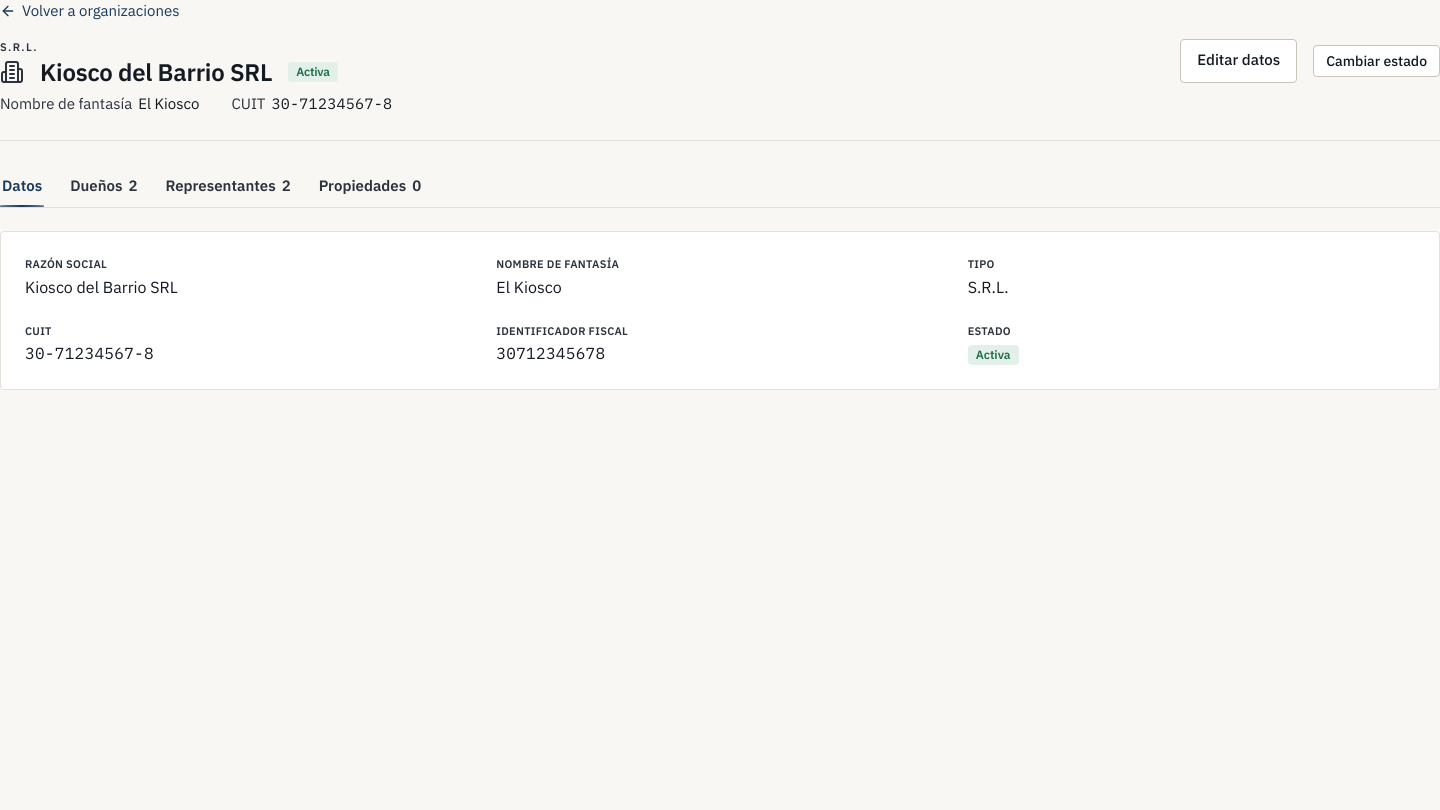
dueños › si la baja entró pero el traspaso falló, lo dice
The width and height of the screenshot is (1440, 810).
Click the tab "Dueños2" at (104, 186), box top-left (68, 164), bottom-right (139, 207)
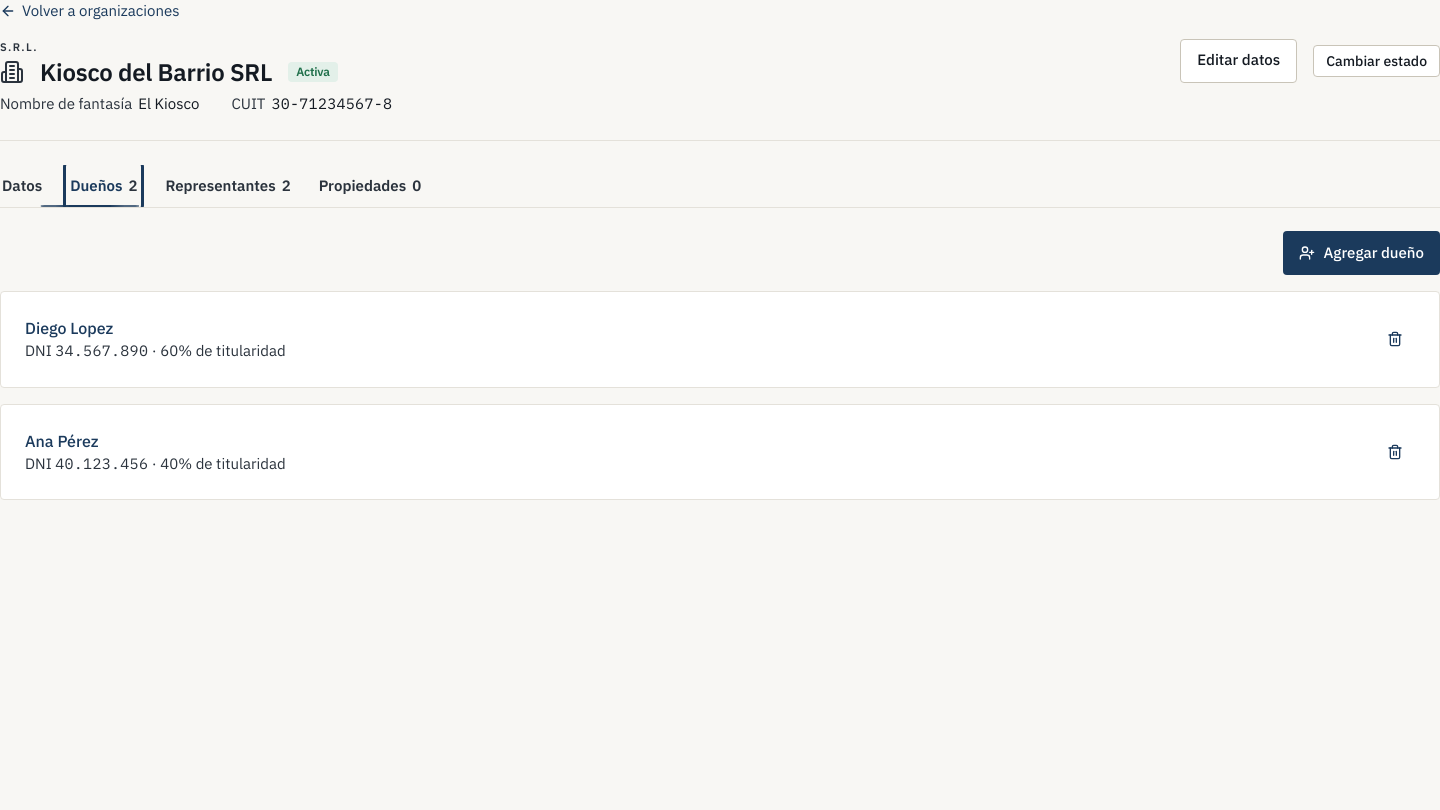
Click the button named "quitar a ana" at (1395, 452), box top-left (1375, 436), bottom-right (1415, 468)
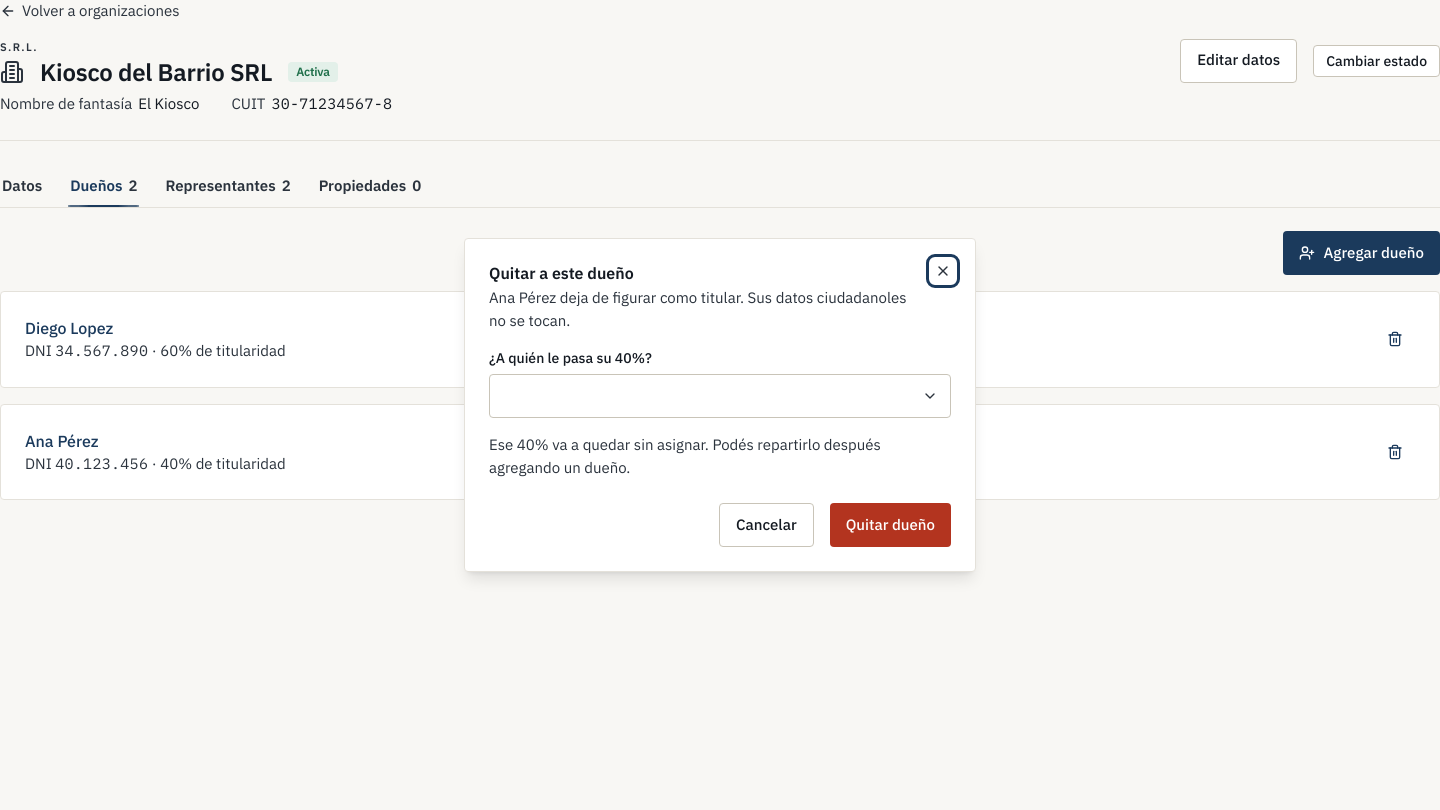
Now the text "¿A quién le pasa su 40%?" is shown, box top-left (489, 349), bottom-right (652, 367)
Press the mouse on the dropdown named "a quién le pasa su 40%" at (930, 396), box top-left (489, 374), bottom-right (951, 418)
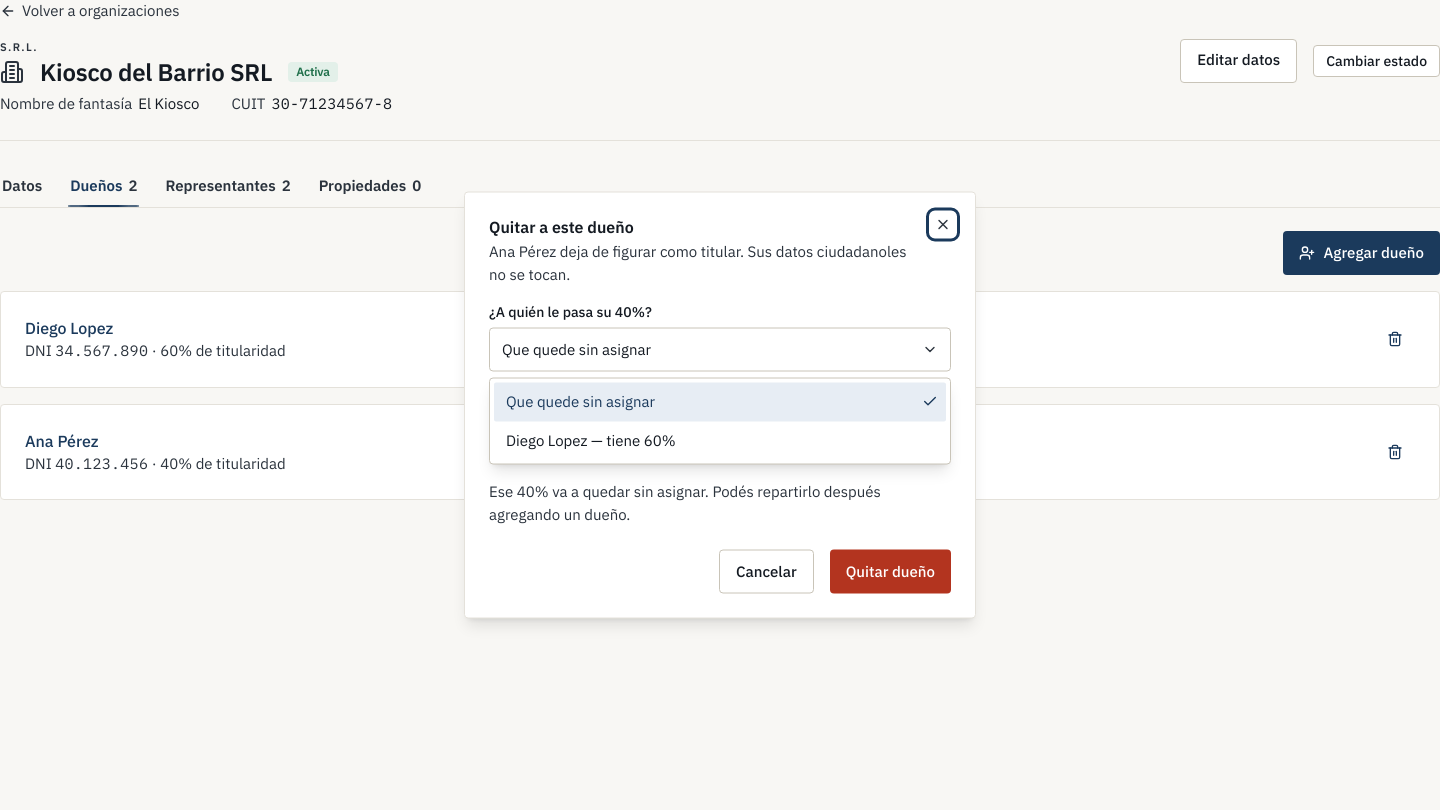
Click the option "Diego Lopez — tiene 60%" at (591, 440), box top-left (506, 430), bottom-right (676, 449)
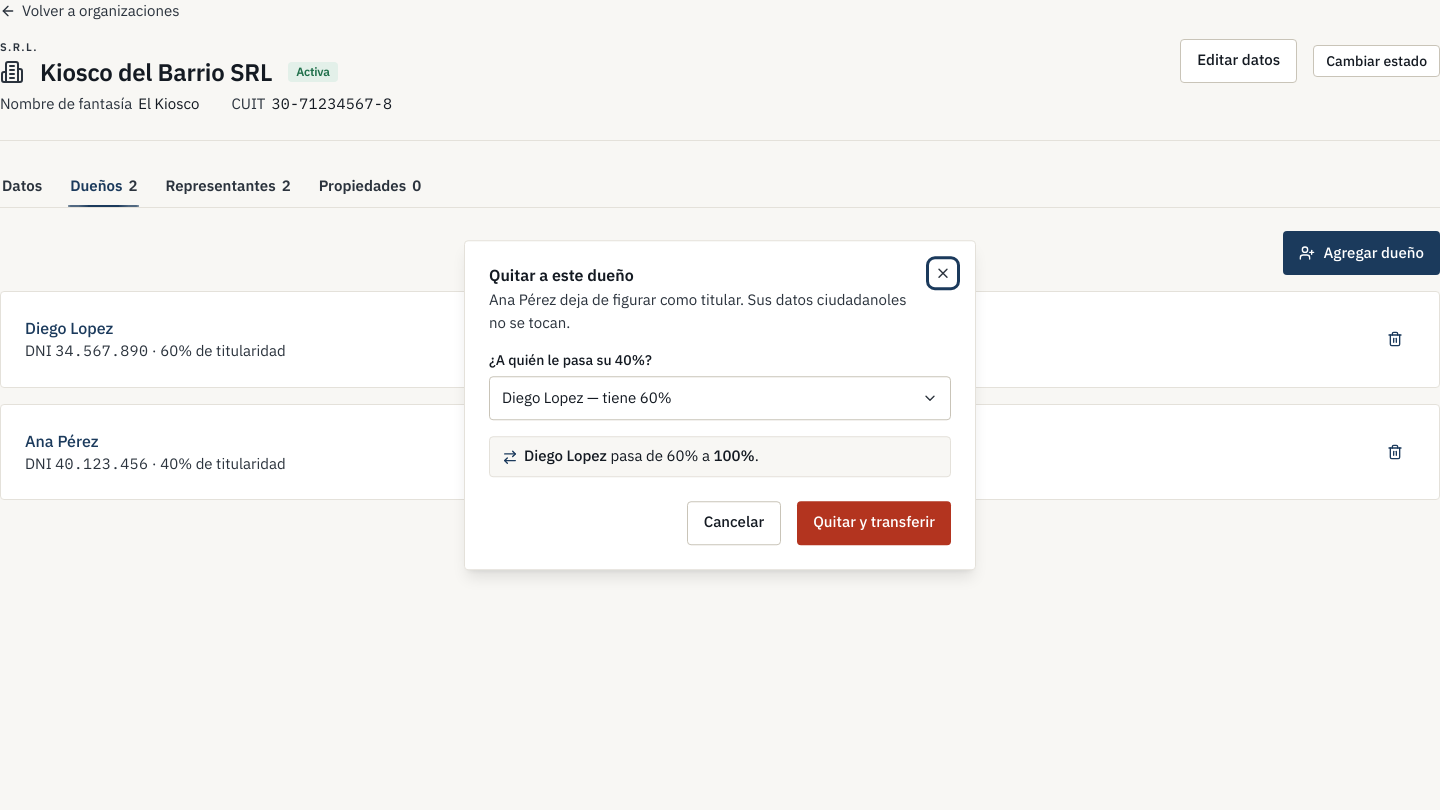
Click the button "Quitar y transferir" at (874, 523), box top-left (797, 501), bottom-right (951, 545)
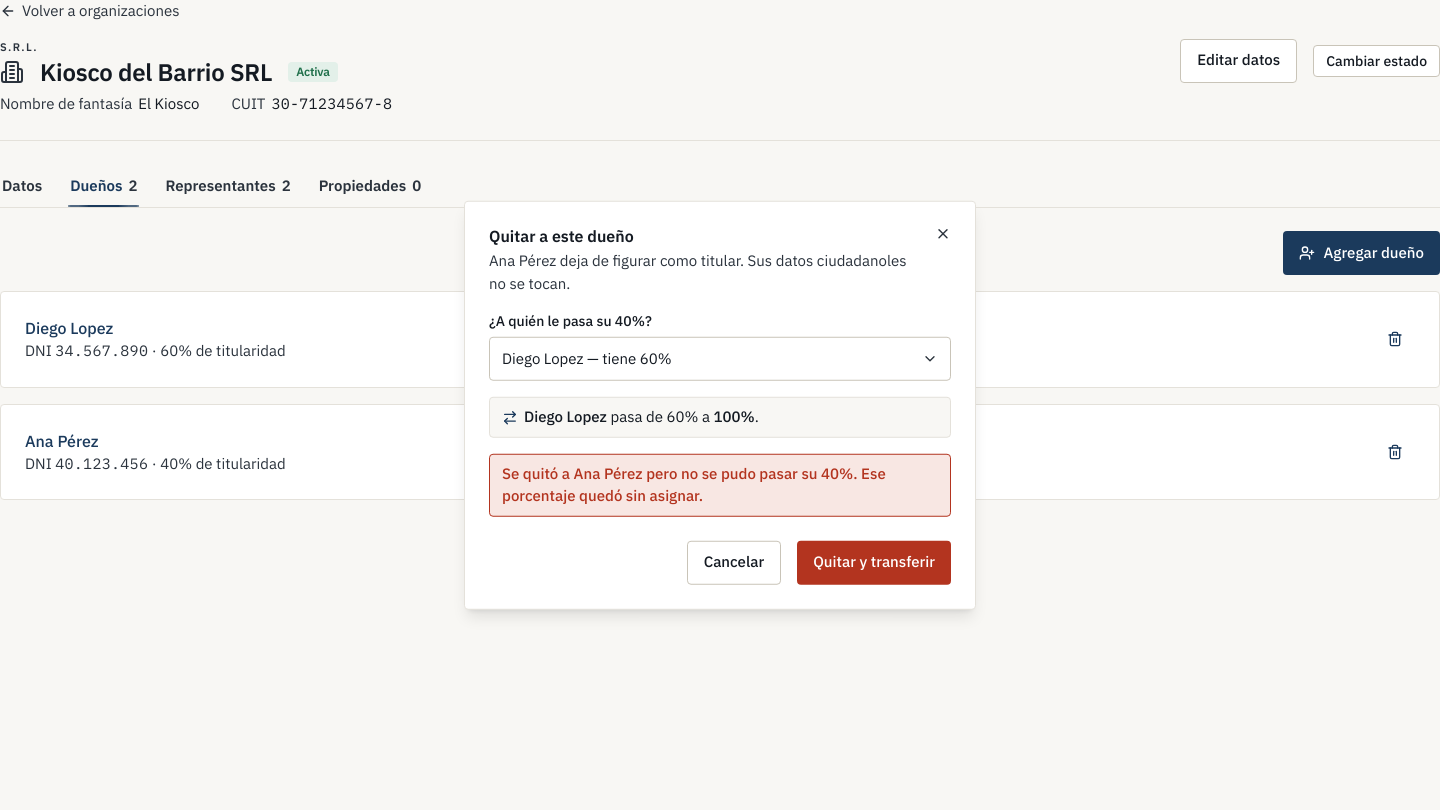
Now the message shows "quedó sin asignar", box top-left (502, 463), bottom-right (886, 505)
